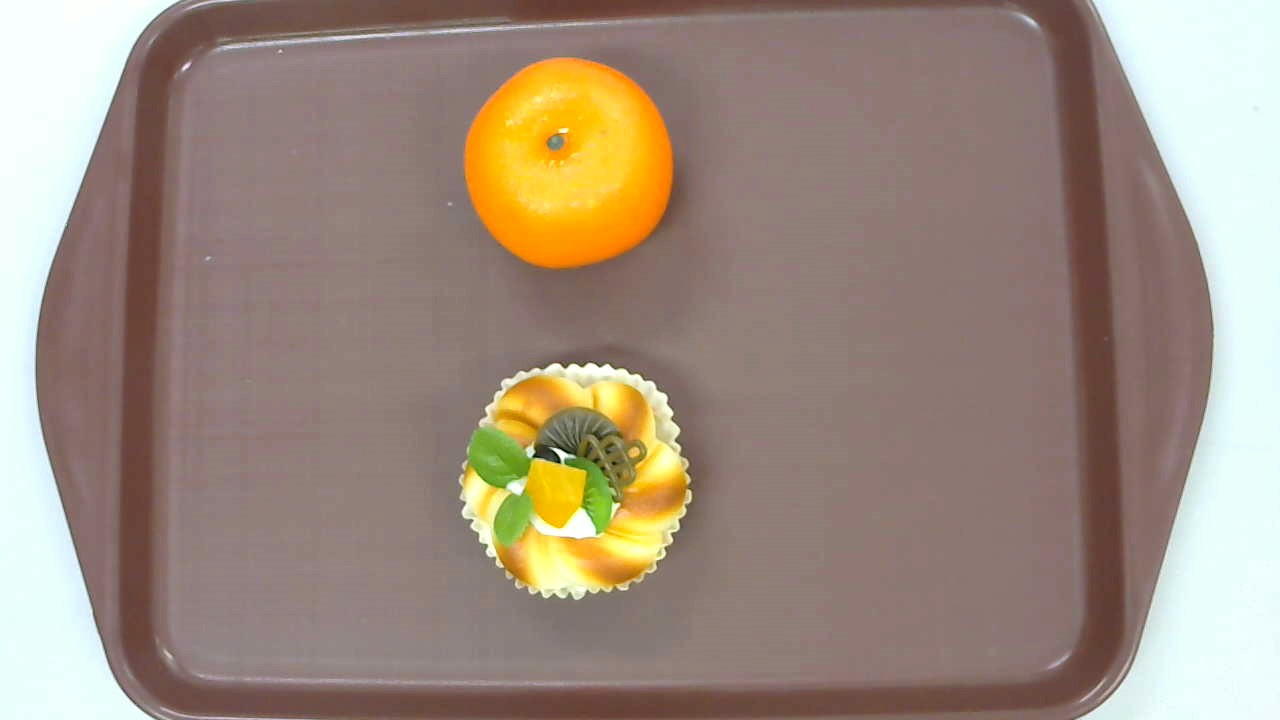fruit tart: (458, 361, 694, 601)
orange: (462, 55, 674, 271)
